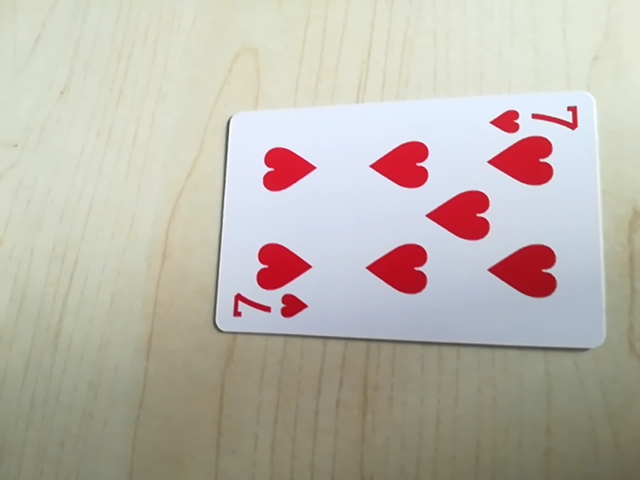hx 7: (486, 96, 584, 137), (223, 290, 312, 330)
